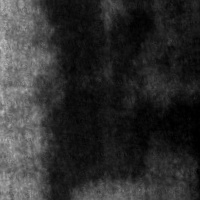patches: (35, 67, 164, 192), (47, 1, 107, 82), (111, 3, 166, 74), (152, 86, 200, 165)
